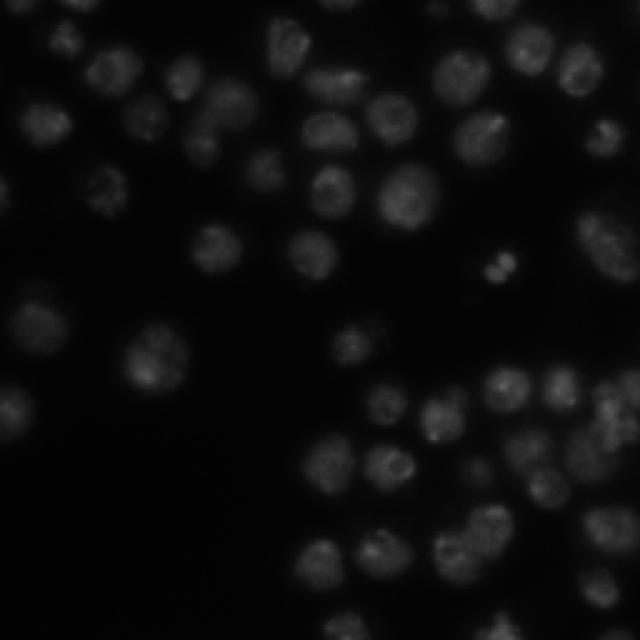cell: (0, 0, 640, 640), (501, 368, 640, 512), (164, 54, 260, 169), (301, 70, 420, 157), (430, 50, 511, 169), (291, 525, 419, 593), (300, 431, 420, 499), (431, 500, 518, 588), (361, 380, 469, 448), (480, 362, 586, 417), (121, 320, 191, 398), (372, 160, 446, 233), (571, 210, 640, 284), (6, 286, 70, 357), (185, 220, 249, 278), (581, 504, 640, 558), (309, 162, 359, 221), (284, 230, 340, 282), (84, 48, 142, 98), (555, 42, 605, 99), (331, 320, 386, 369), (19, 102, 74, 149), (269, 18, 310, 79), (241, 146, 290, 197), (330, 320, 382, 368), (84, 165, 130, 219), (122, 92, 170, 142), (580, 116, 628, 160), (578, 561, 620, 611), (470, 610, 526, 640), (321, 610, 374, 640), (461, 458, 499, 497), (480, 250, 519, 288), (510, 50, 552, 78), (470, 0, 516, 21), (318, 1, 361, 12)
